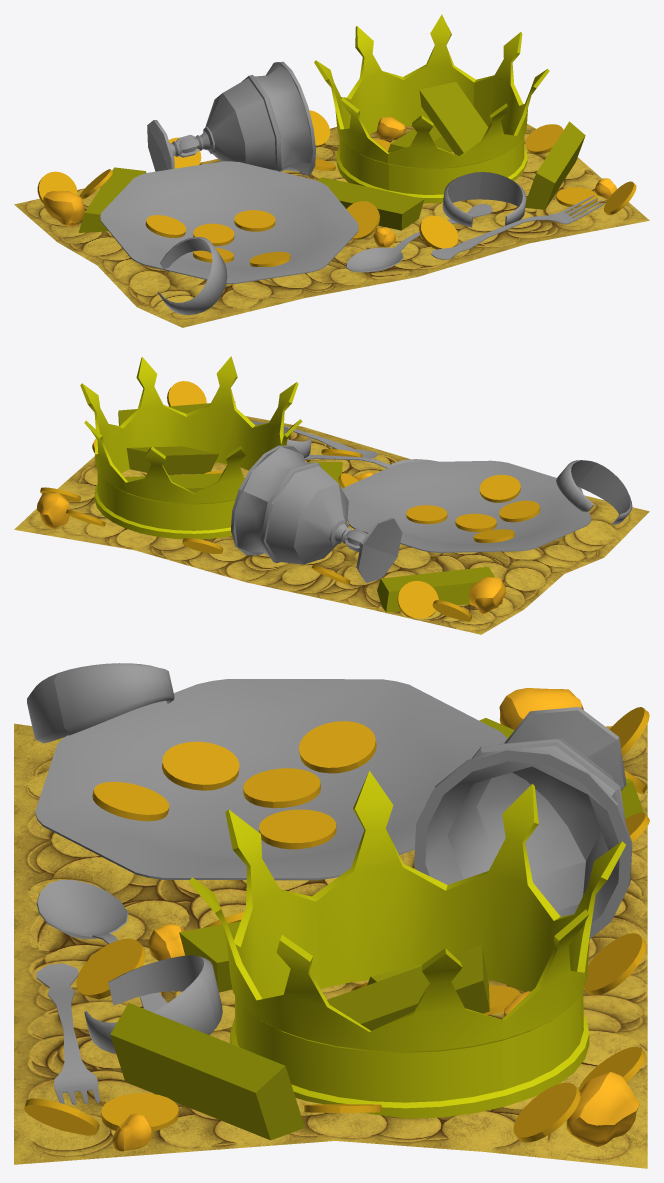
The model's file is treasure.FBX.
3 views of the same model, one above another, from view 1: azimuth 30°, elevation 25°; view 2: azimuth 150°, elevation 25°; view 3: azimuth 270°, elevation 25° (orthographic). The views are drawn at different scales.
Parts seen in each view (by area): view 1: treasure; view 2: treasure; view 3: treasure.
Part boxes in pixels (left/top/right/bottom): treasure: left=14, top=14, right=649, bottom=327; treasure: left=14, top=356, right=649, bottom=634; treasure: left=14, top=663, right=649, bottom=1168.
Bounding box in the file's own units: 52.14 × 12.35 × 32.71.
